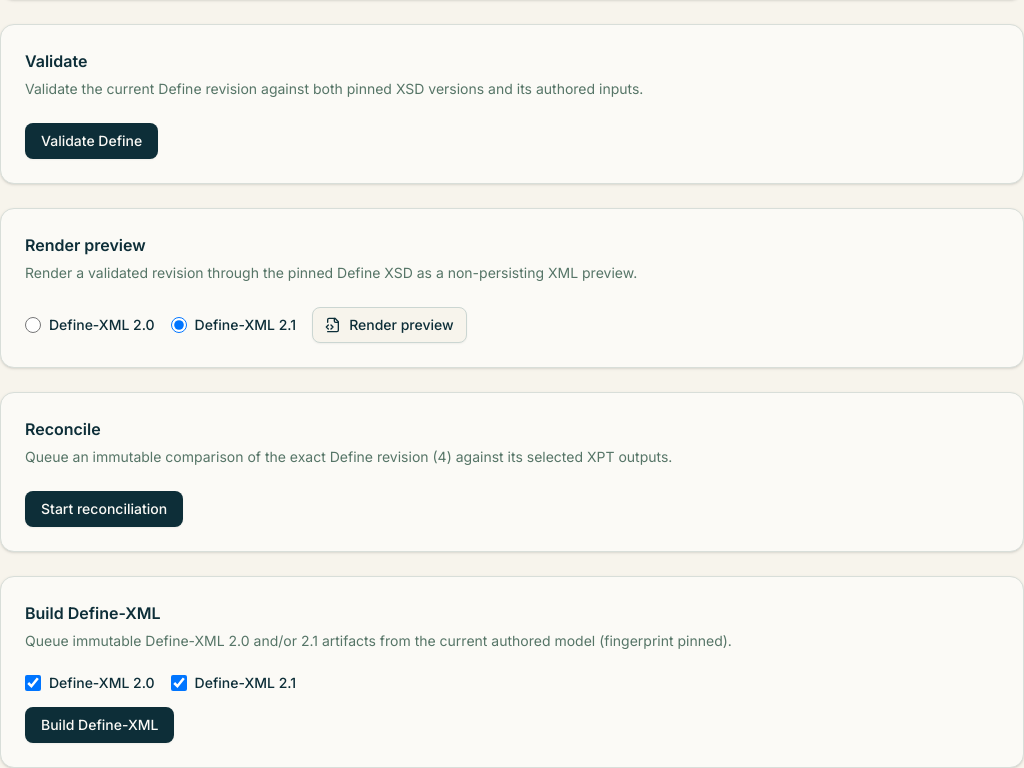
it: DefinePanel reconcile (Req 18.6, 18.8) › starts on 202 and polls the run at 2s to a completed terminal
(page scrolled)
Click the button "Start reconciliation" at (104, 509), box [25, 491, 183, 527]
Wait 2000 ms
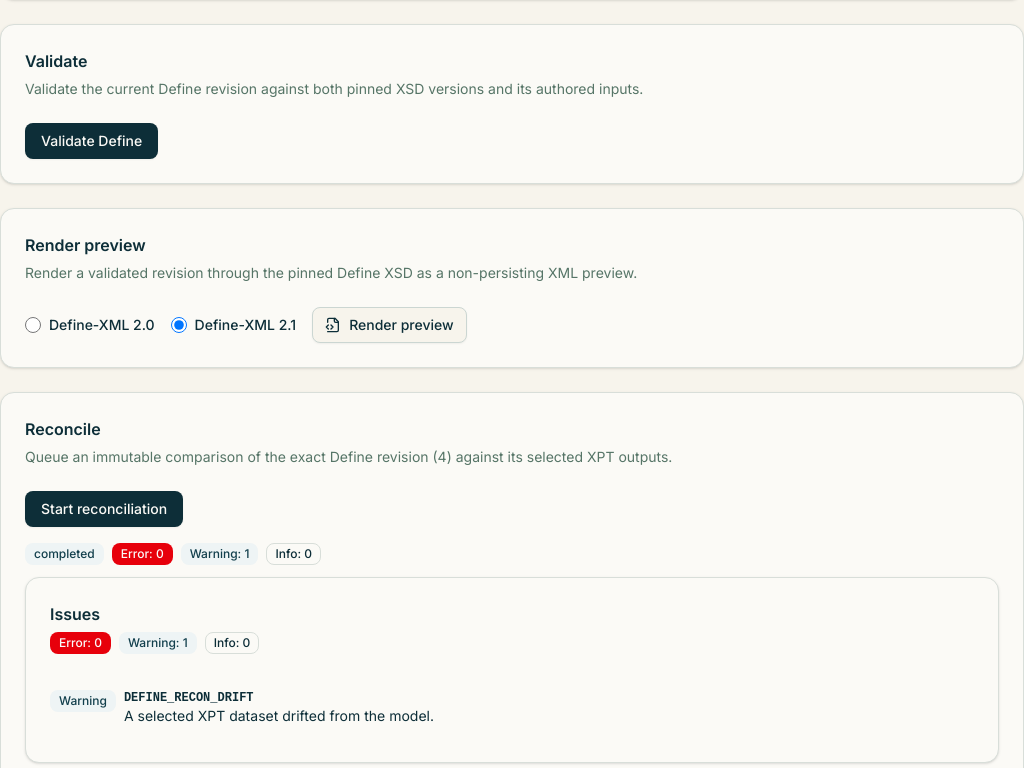
Check: the text "A selected XPT dataset drifted from the model." is shown, box [124, 707, 434, 724]
